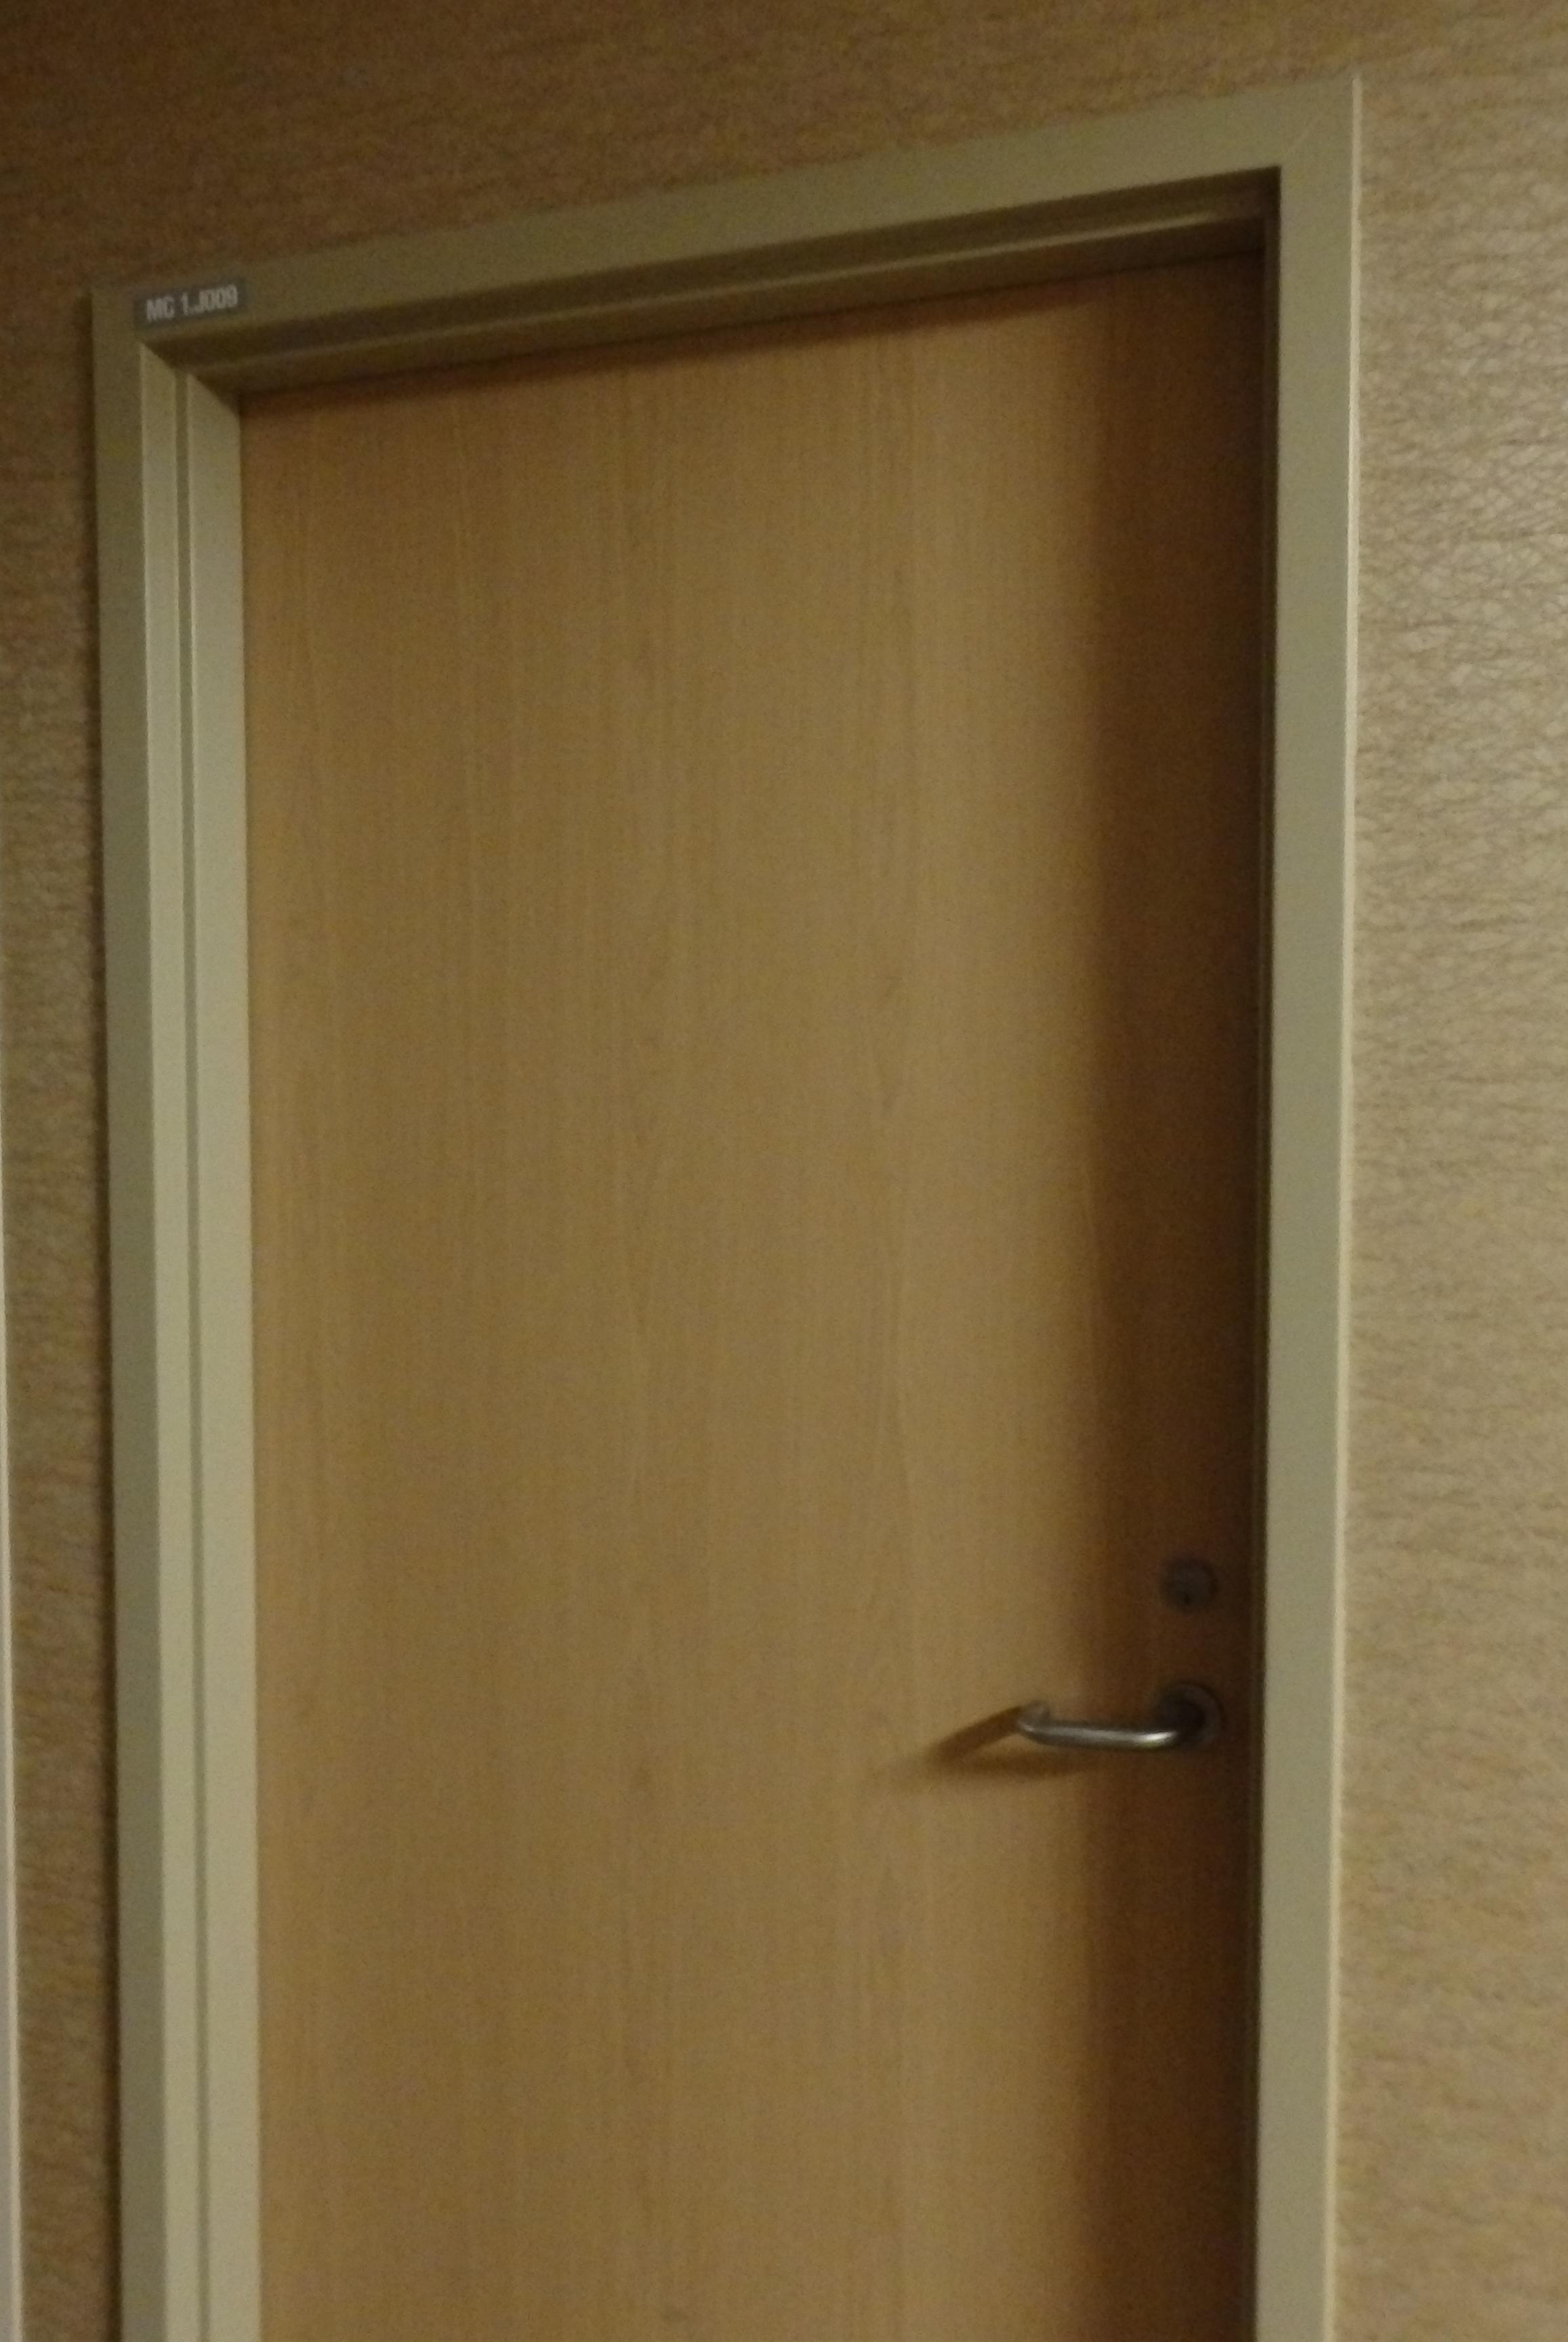door: (203, 180, 1290, 2316)
